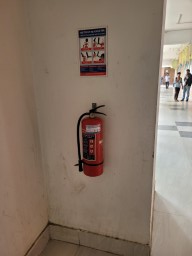fire_extinguisher: (77, 113, 133, 156)
